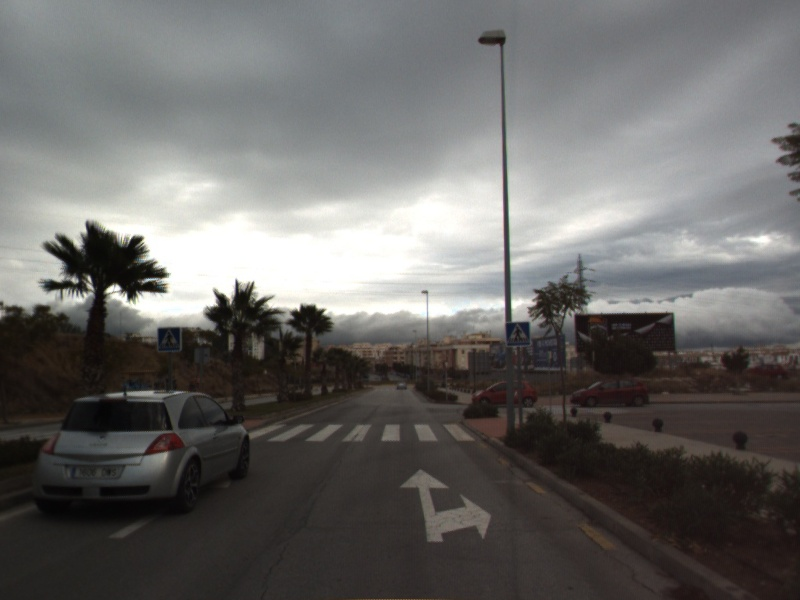STRAIGHT_RIGHT: (397, 466, 493, 544)
